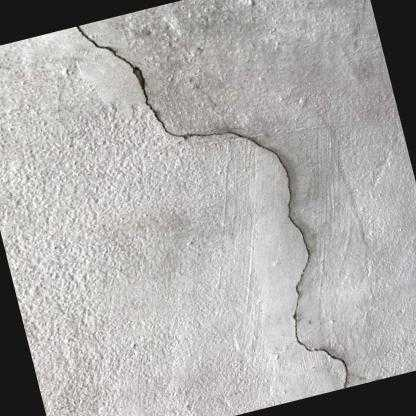crack: (75, 26, 347, 388)
